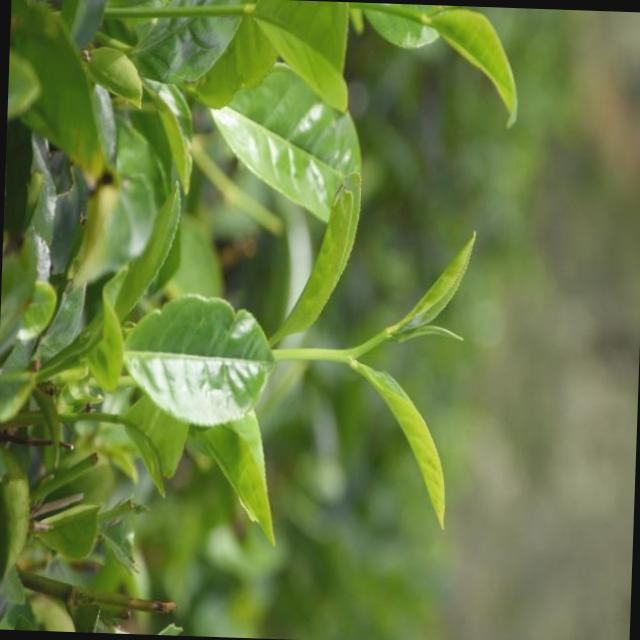Stem: (336, 348, 352, 362), (411, 10, 425, 22)
